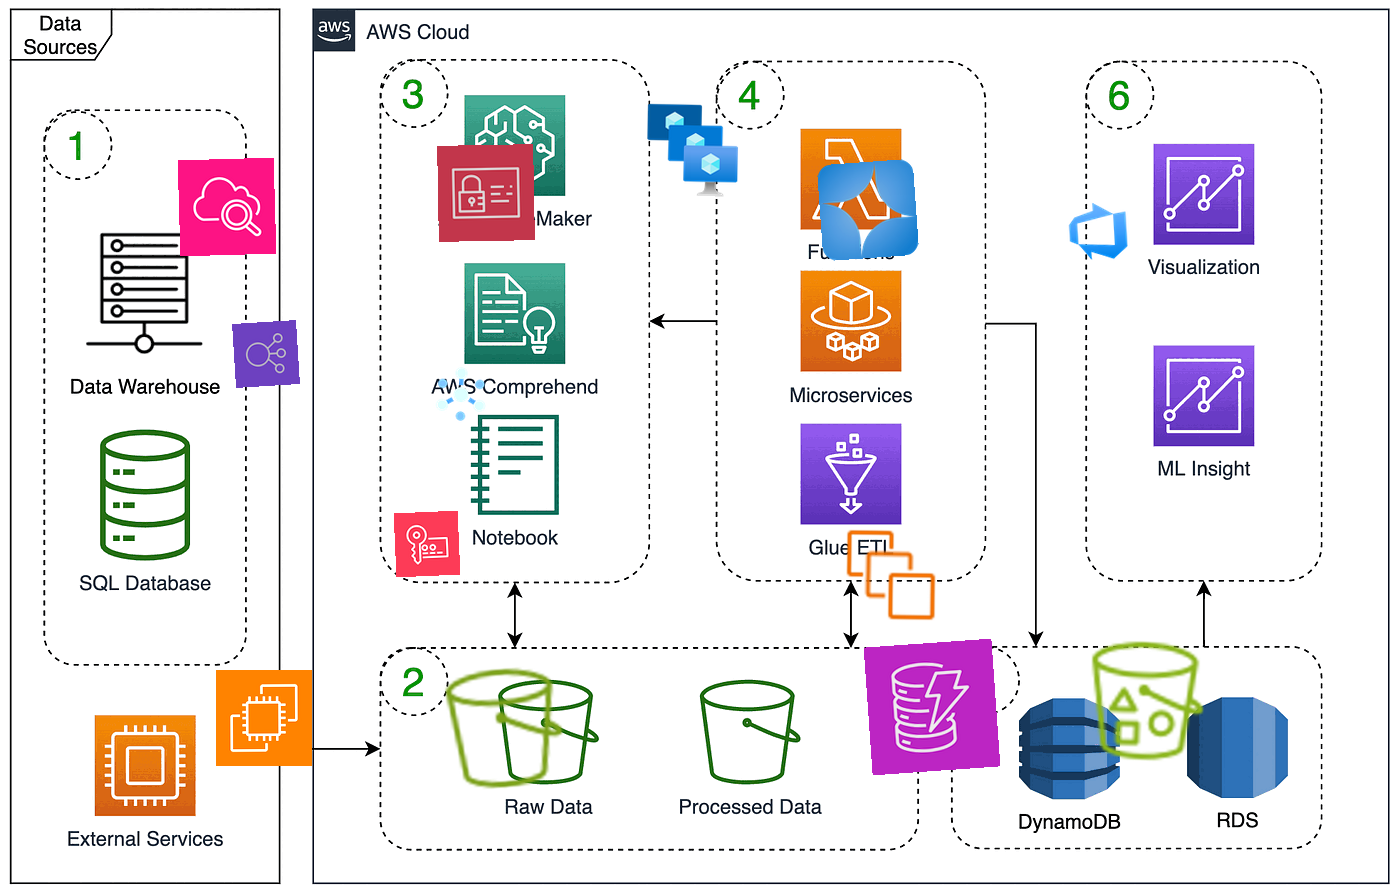aws_amazon_cloudwatch: (177, 157, 277, 257)
aws_amazon_dynamodb: (863, 638, 1001, 776)
aws_amazon_ec2: (215, 669, 313, 767)
aws_ec2_instances: (842, 526, 940, 624)
aws_elastic_load_balancing: (232, 320, 300, 388)
aws_identity_and_access_management: (437, 144, 535, 242)
aws_key_management_service: (393, 510, 461, 578)
aws_simple_storage_service_bucket: (436, 659, 574, 797)
aws_simple_storage_service_bucket_with_objects: (1080, 634, 1214, 768)
azure_devops: (1064, 197, 1132, 265)
azure_openai: (816, 158, 920, 262)
azure_vm_scale_sets: (642, 99, 740, 197)
gcp_pubsub: (428, 361, 494, 427)
